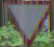Give way: (0, 1, 49, 46)
